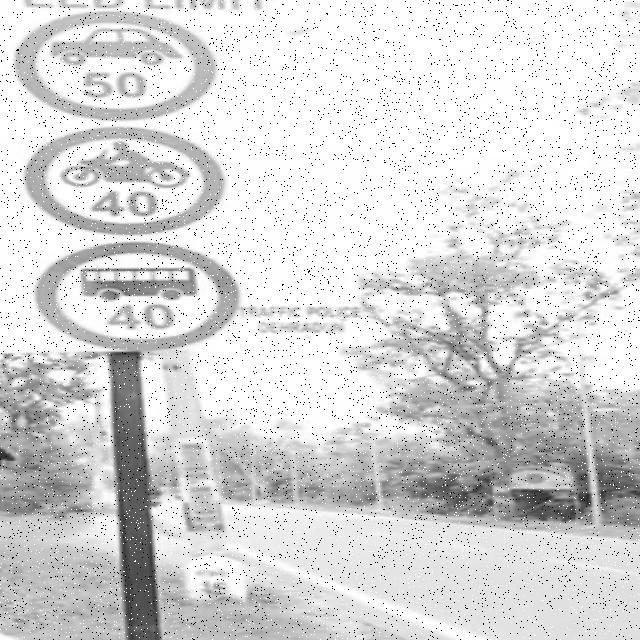speed_limit_50: (25, 16, 224, 119)
speedlimit_40: (28, 240, 264, 360), (28, 121, 234, 232)
